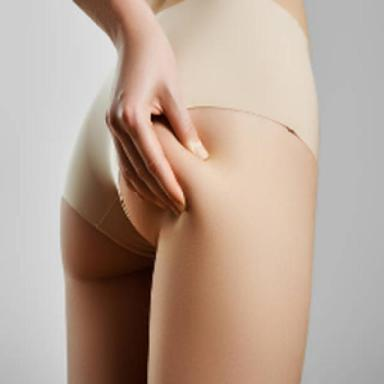normal skin: (61, 108, 317, 384), (74, 0, 209, 213)
